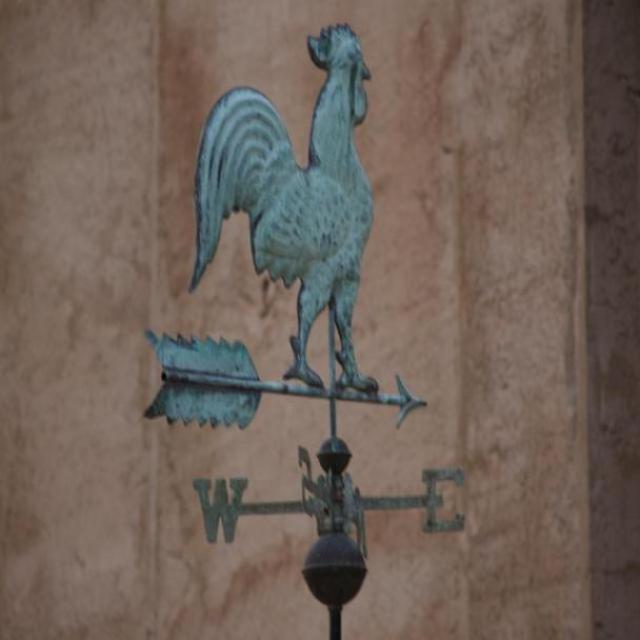Chicken: (185, 7, 386, 396)
